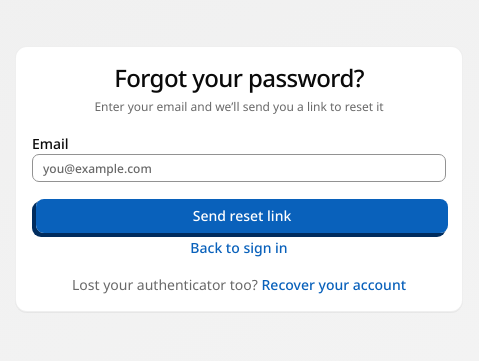
Scenario: surfaces a 422 as a field error, not the generic confirmation
Type "weird@x" into the field labelled "Email".
click(239, 168); type("weird@x")  # box [32, 154, 446, 182]
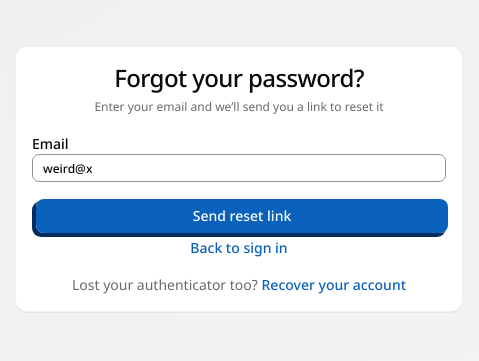
Click the button "Send reset link".
click(242, 216)  # box [35, 198, 449, 234]
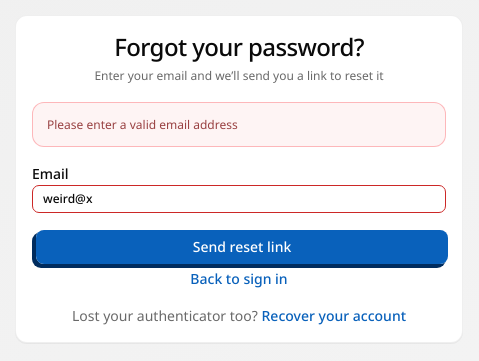
Expected: the text "Please enter a valid email address" is shown, [47, 116, 238, 133]
